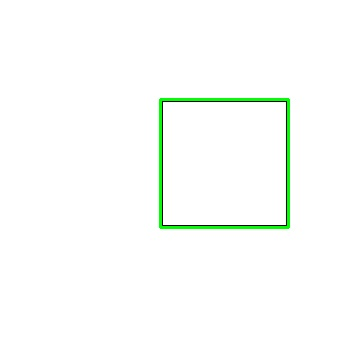line_segment: (159, 98, 290, 229)
